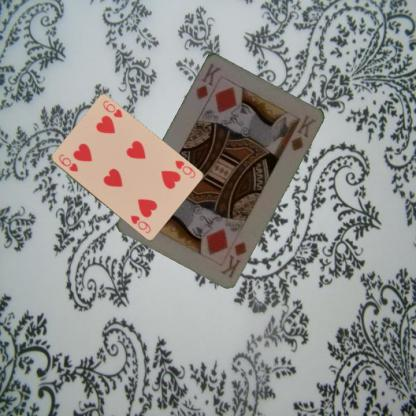6h: (172, 158, 197, 180), (56, 151, 79, 173)
Kd: (218, 238, 248, 280), (193, 60, 222, 101)
